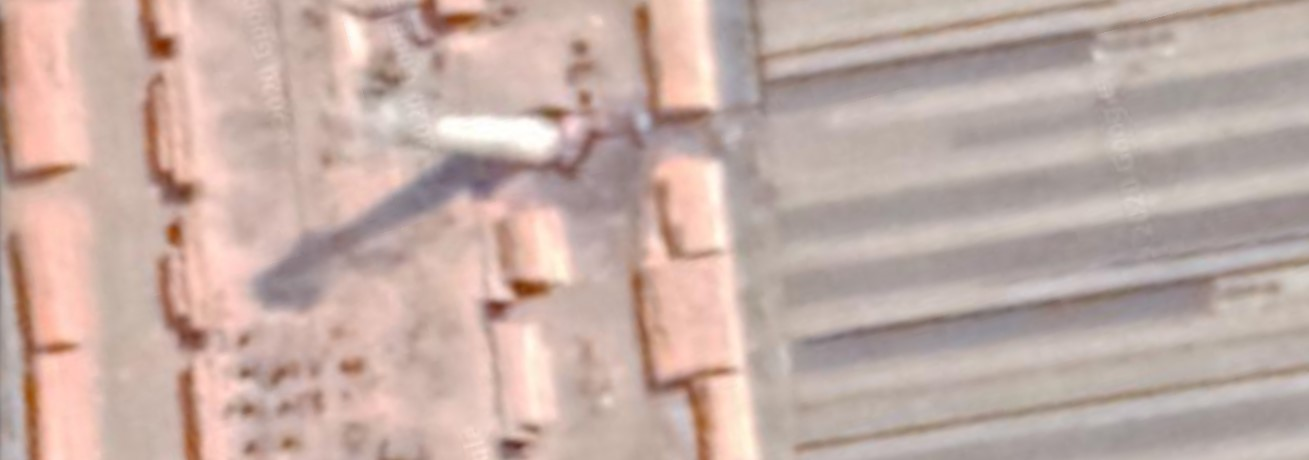kiln: (159, 1, 759, 460)
